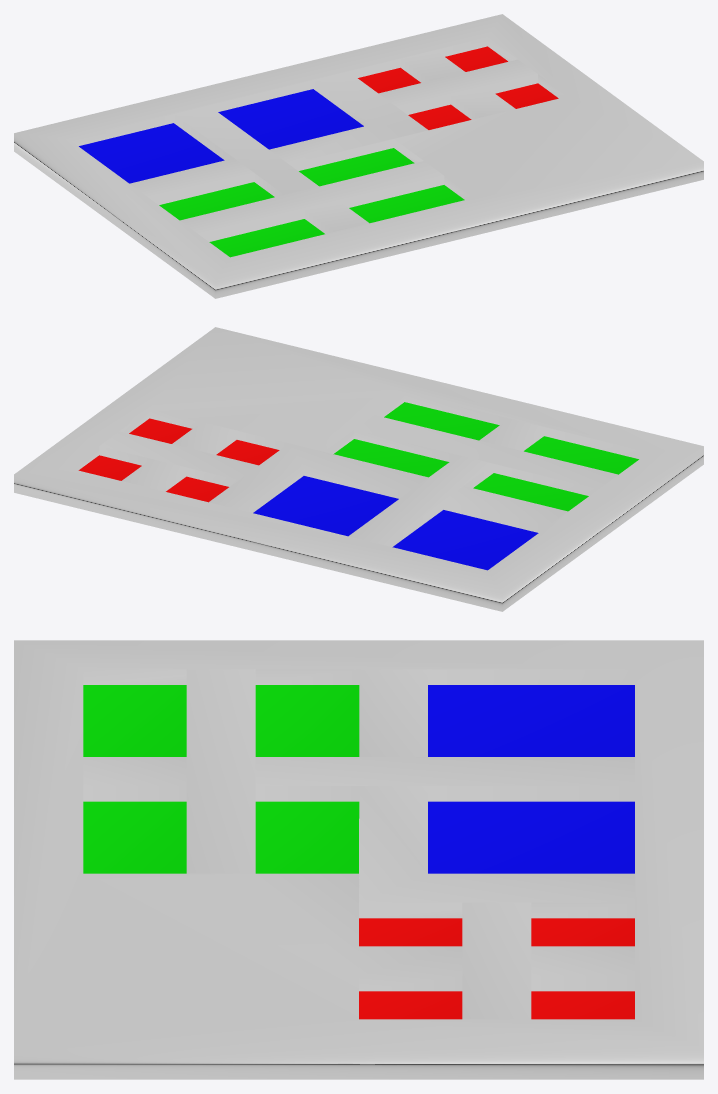
File: kit2.fbx
3 views of the same model, one above another, from view 1: azimuth 30°, elevation 25°; view 2: azimuth 150°, elevation 25°; view 3: azimuth 270°, elevation 25° (orthographic). The views are drawn at different scales.
Visible parts, largest first — view 1: Cube; view 2: Cube; view 3: Cube.
Boxes of the visible parts, x1,y1,x2,y2 form: Cube: [14, 14, 703, 298]; Cube: [14, 327, 703, 611]; Cube: [14, 640, 703, 1079].
Bounding box in the file's own units: 178 × 6.35 × 127.
